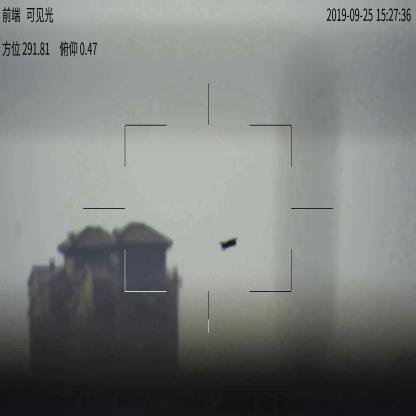uav: (220, 237, 237, 253)
